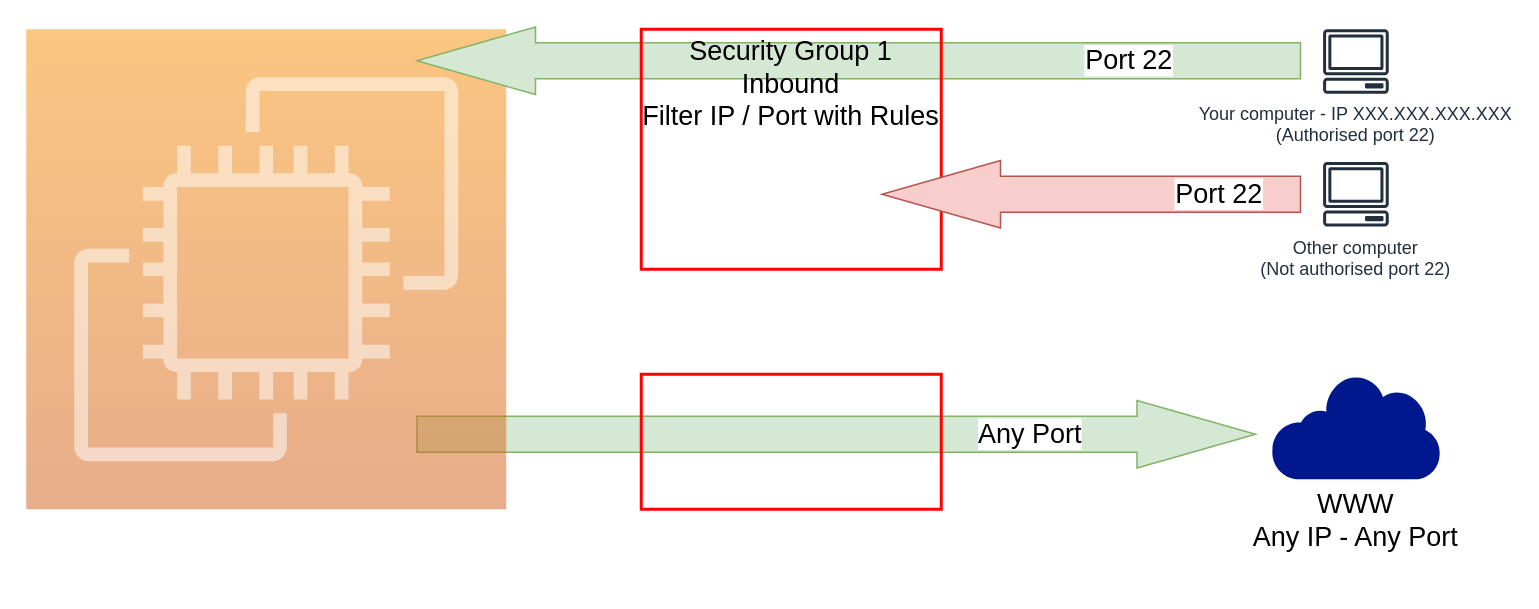
Image size: 1539x609. Some labels were removed from this diagram. The centre of each missing label's shape, as x and y in pixels:
EC2 Instance IP XXX.XXX.XXX.XXX: the point at 265,268
Security Group 1 Outbound Filter IP / Port with Rules: the point at 790,441
